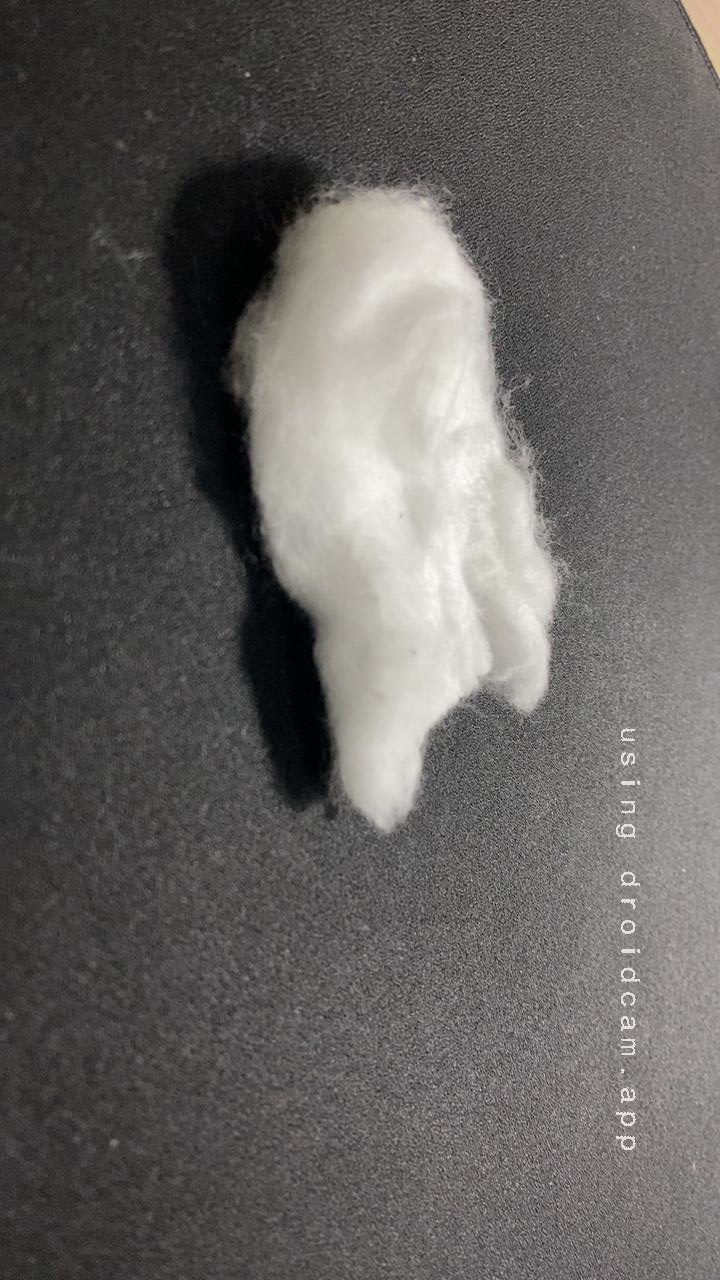cotton: (180, 144, 628, 865)
